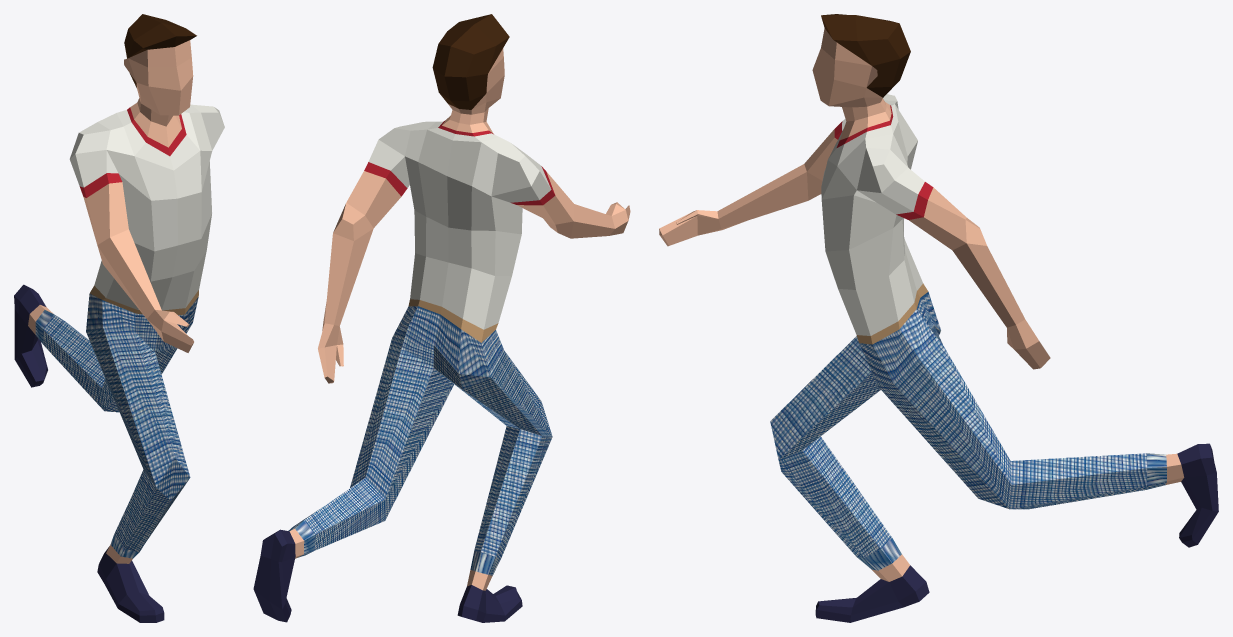
File: SpringManB.005.glb
3 views of the same model, side by side, from view 1: azimuth 30°, elevation 25°; view 2: azimuth 150°, elevation 25°; view 3: azimuth 270°, elevation 25° (orthographic). The views are drawn at different scales.
Visible parts, largest first — view 1: SpringManB.006; view 2: SpringManB.006; view 3: SpringManB.006.
Part boxes in pixels (left/top/right/bottom): SpringManB.006: left=14, top=14, right=224, bottom=622; SpringManB.006: left=253, top=14, right=630, bottom=622; SpringManB.006: left=659, top=14, right=1218, bottom=622.
Size of the model in its own units: 0.4606 by 1.57 by 1.3.
Materials: 1 (1 with a texture image).
